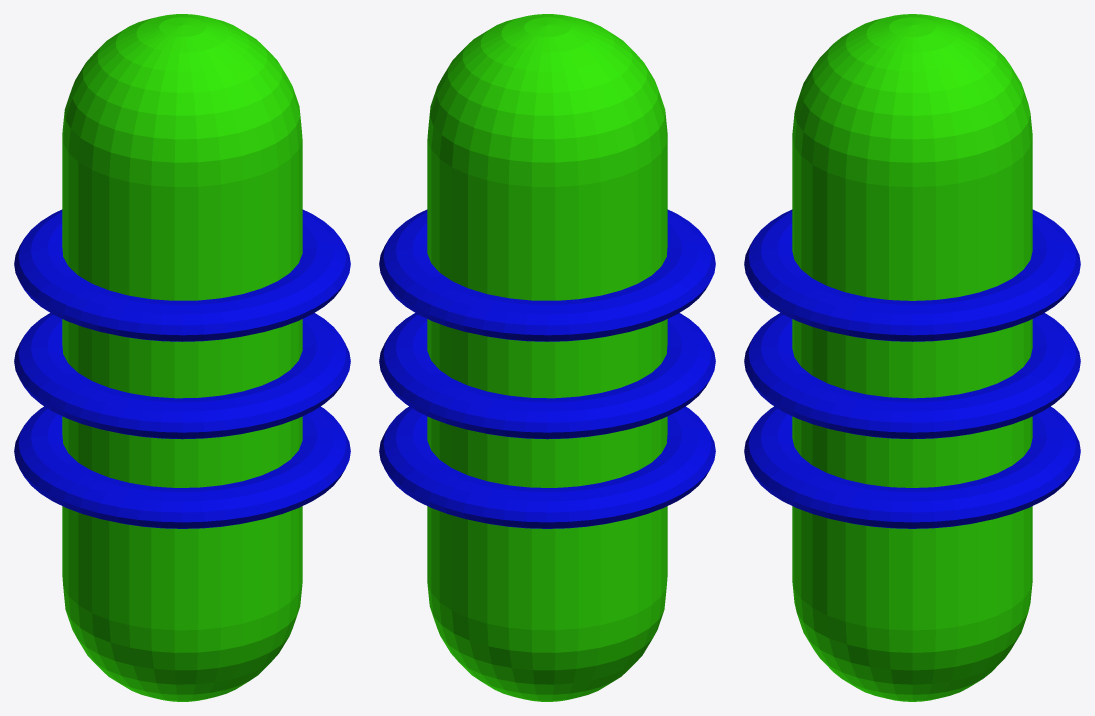
File: oxygenCanister-JOINED(FBX).fbx
The picture shows the model from 3 angles, left to right: view 1: azimuth 30°, elevation 25°; view 2: azimuth 150°, elevation 25°; view 3: azimuth 270°, elevation 25°; orthographic projection.
Visible parts, largest first — view 1: Cylinder; view 2: Cylinder; view 3: Cylinder.
Part boxes in pixels (bbox=[...]): Cylinder: bbox=[14, 14, 350, 701]; Cylinder: bbox=[379, 14, 715, 701]; Cylinder: bbox=[744, 14, 1080, 701].
Bounding box in the file's own units: 280 × 610 × 280.
